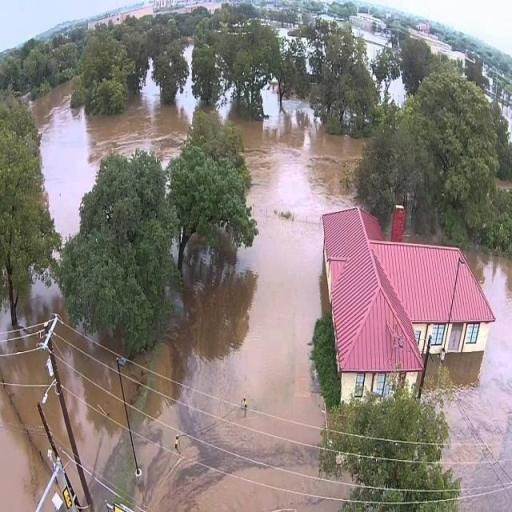flood: (0, 92, 364, 512), (32, 81, 194, 236), (422, 255, 512, 512), (500, 102, 512, 140), (177, 75, 195, 100), (389, 78, 406, 104), (390, 78, 406, 104), (366, 41, 384, 62), (183, 41, 194, 72)
house: (318, 206, 496, 398)
